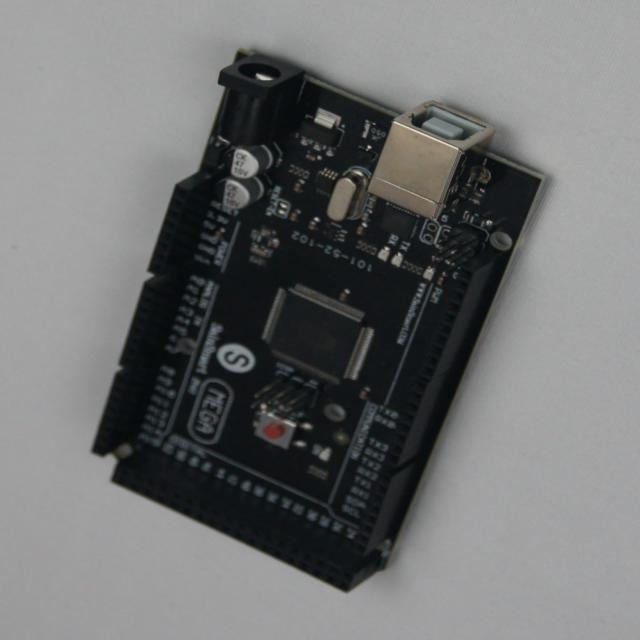Arduino Mega 2560 -Black-: (93, 53, 545, 591)
